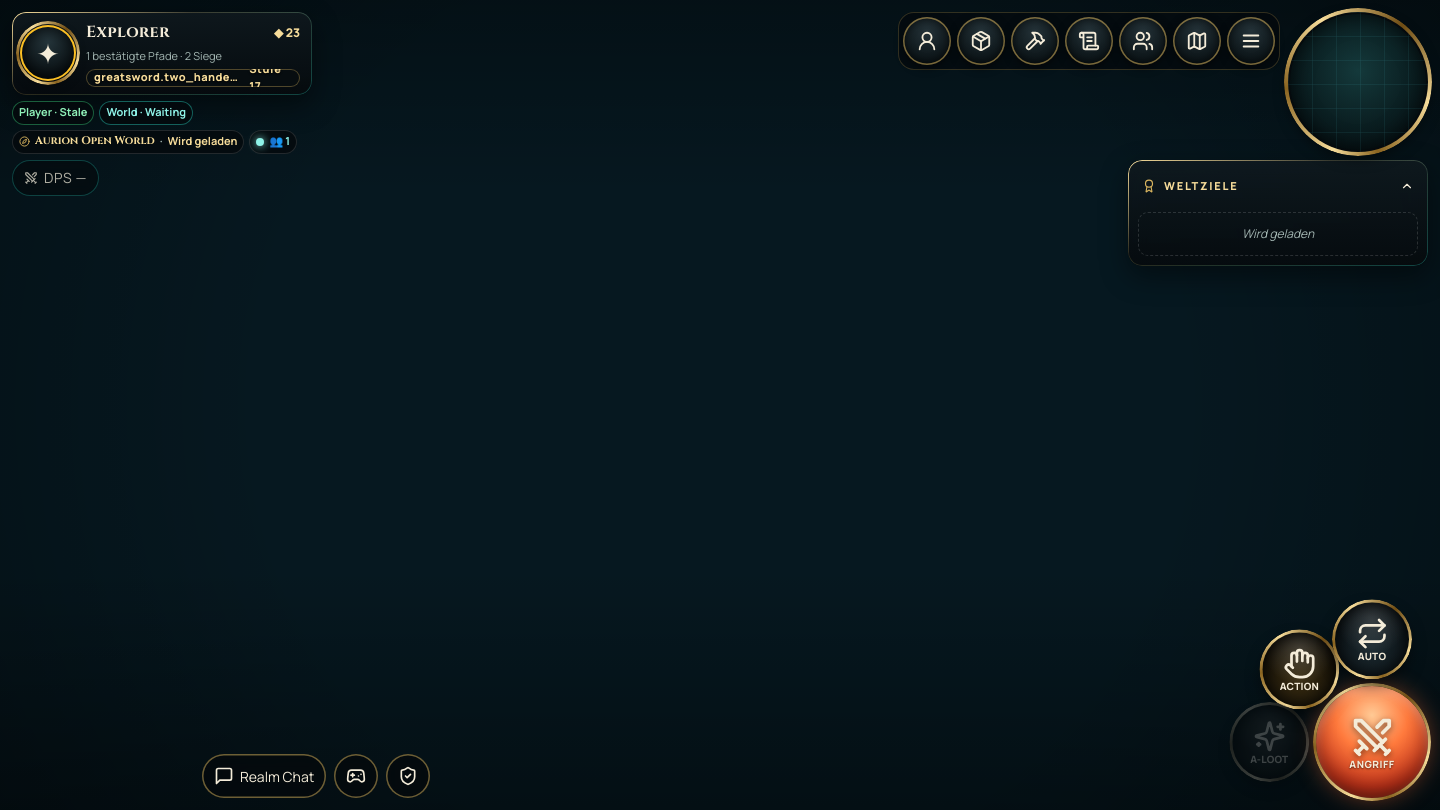
Test case: server-backed Aurion HUD › projects confirmed receipt-backed progression and never renders a class choice
The image size is (1440, 810).
Step 1. Click the button named "Charakter" → (927,41), box [903, 17, 951, 65]
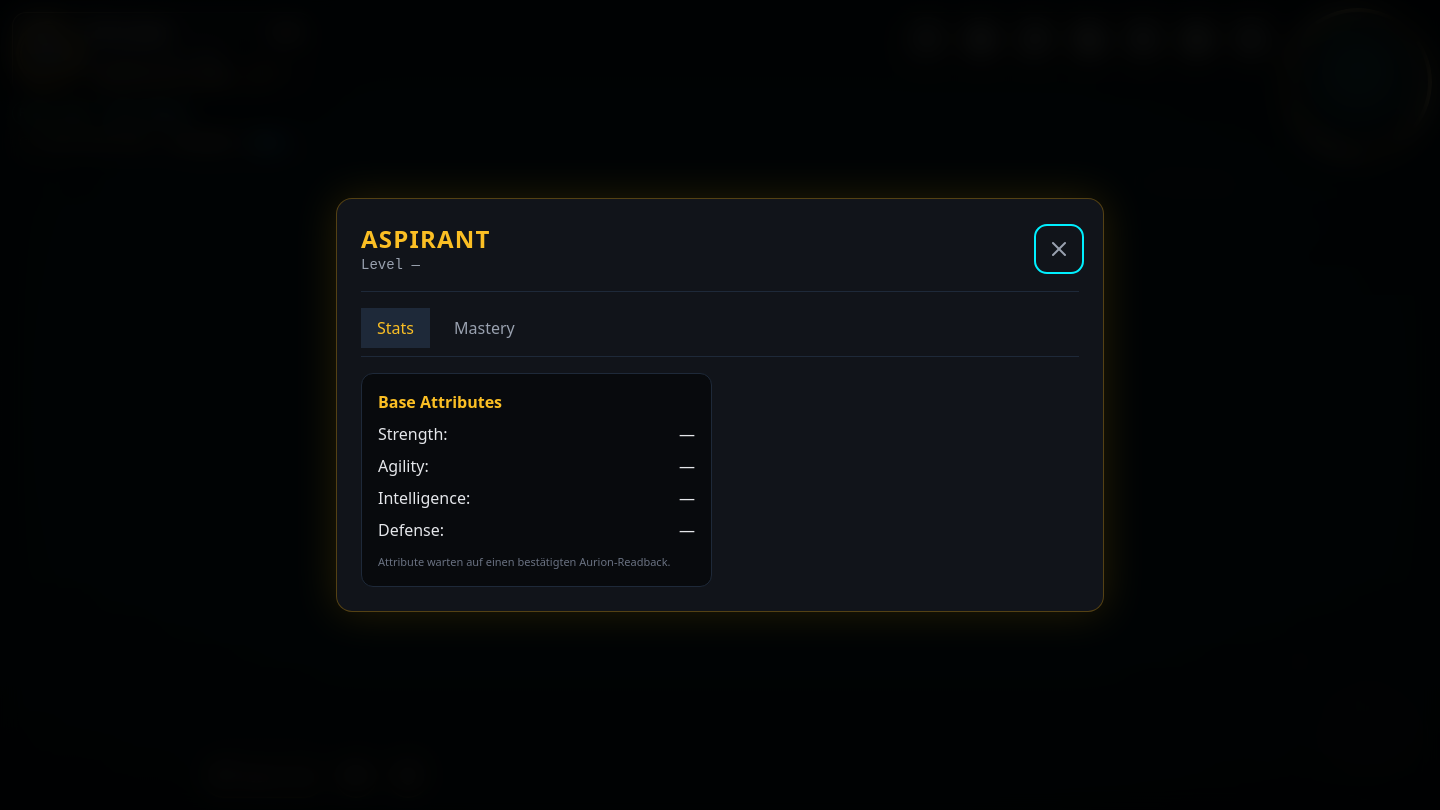
Expected: the dialog named "Charakter & Skills" is shown
